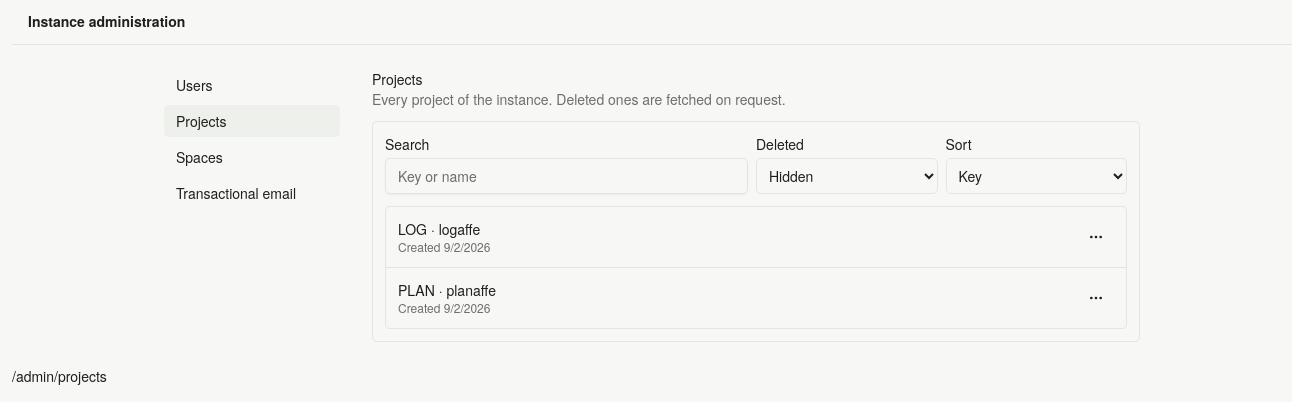
Scenario: asks for a project's access only on the project's own address
Click the link "PLAN · planaffe" at (416, 290), box x1=398 y1=280 x2=496 y2=300
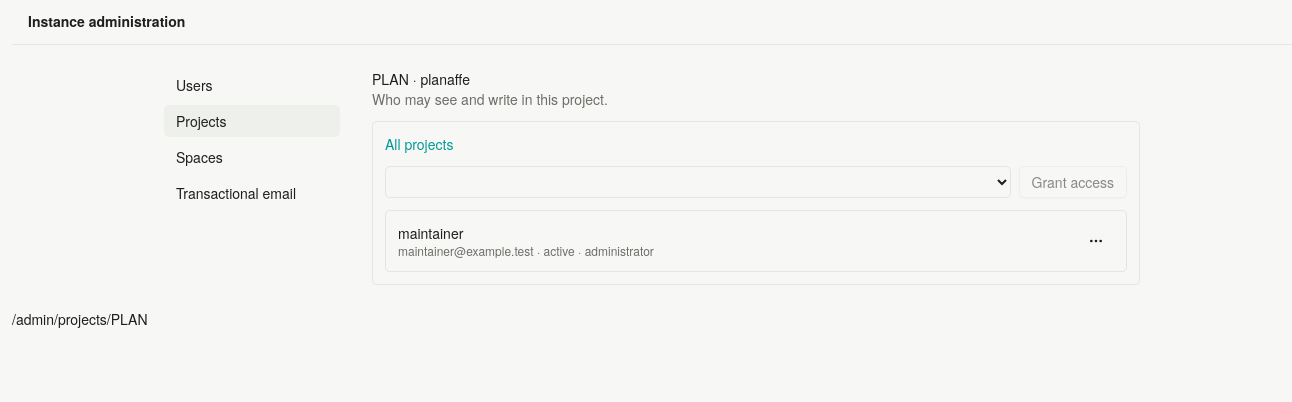
Expected: the button "Grant access" is shown, x1=1019 y1=166 x2=1127 y2=198
